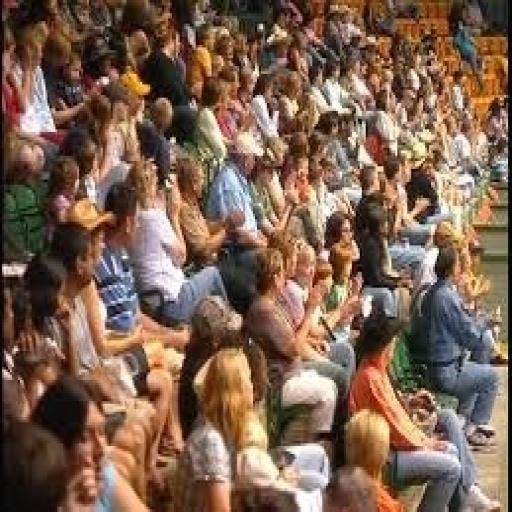clapping: (0, 0, 506, 509)
